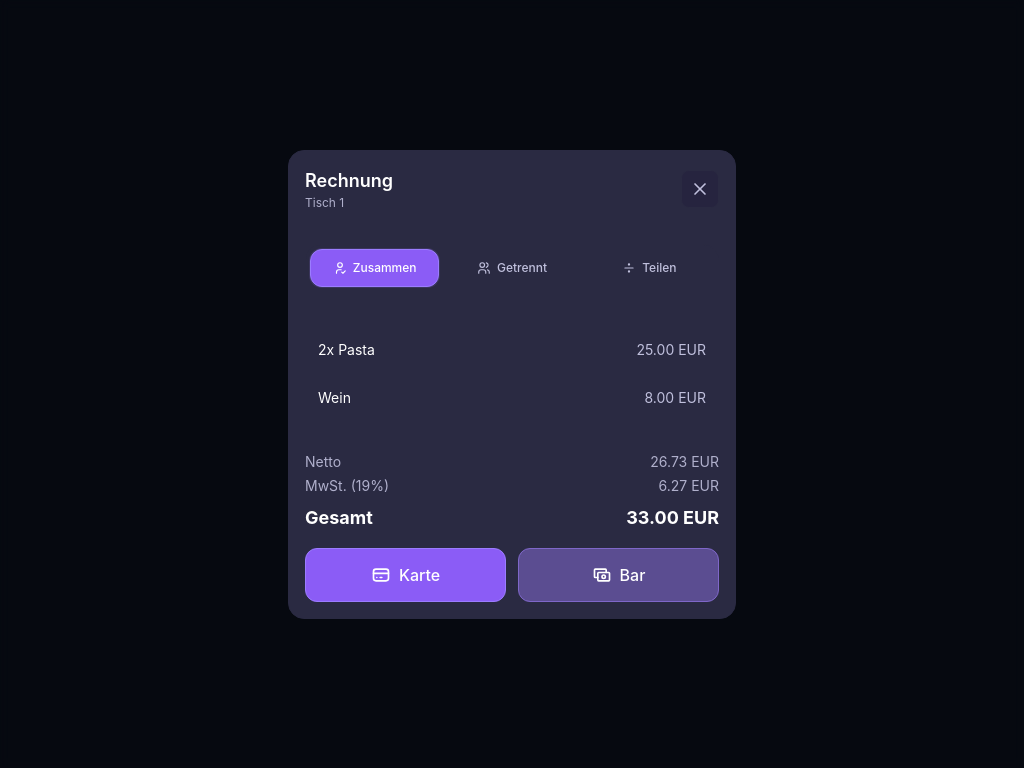
Test case: Scenario 1 — Combined Billing (full order → card payment → close) › after confirming payment CLOSE_TABLE fires: table becomes free, closedTables updated
Later steps or results of the test are not shown.
Expected: the text "33.00 EUR" is shown, [626, 504, 719, 532]
Click the button "Karte".
click(406, 574)  # box [305, 548, 506, 602]
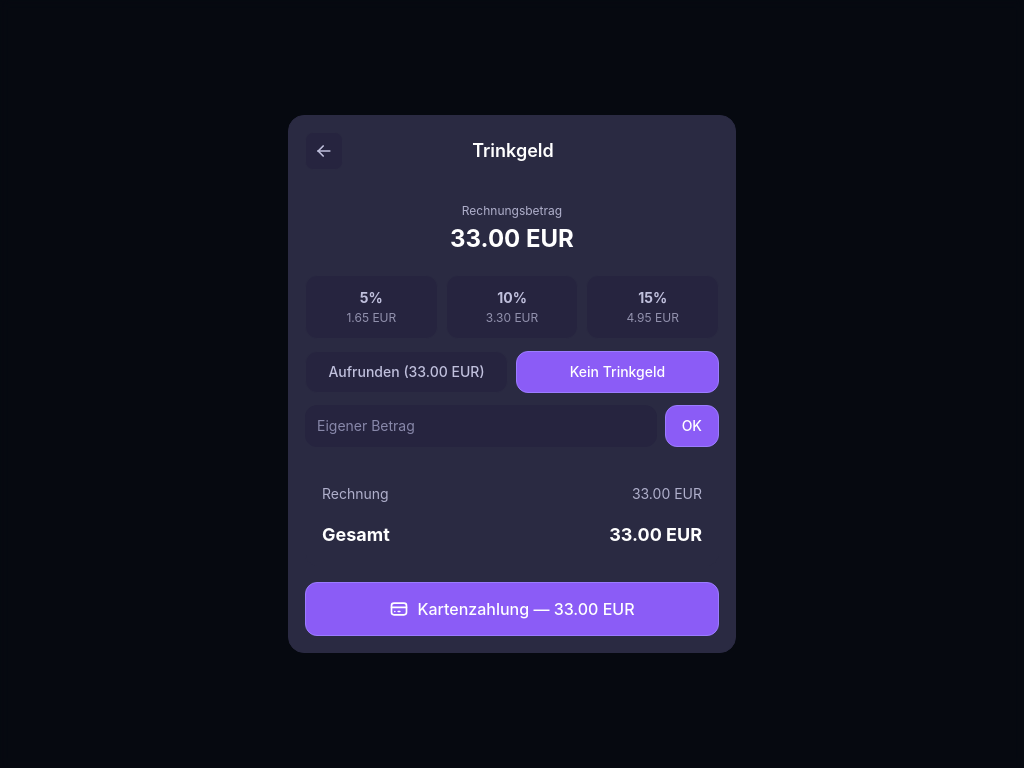
Expected: the heading "Trinkgeld" is shown, [472, 137, 554, 165]
Click the button "Kartenzahlung — 33.00 EUR".
click(512, 609)  # box [305, 582, 719, 636]
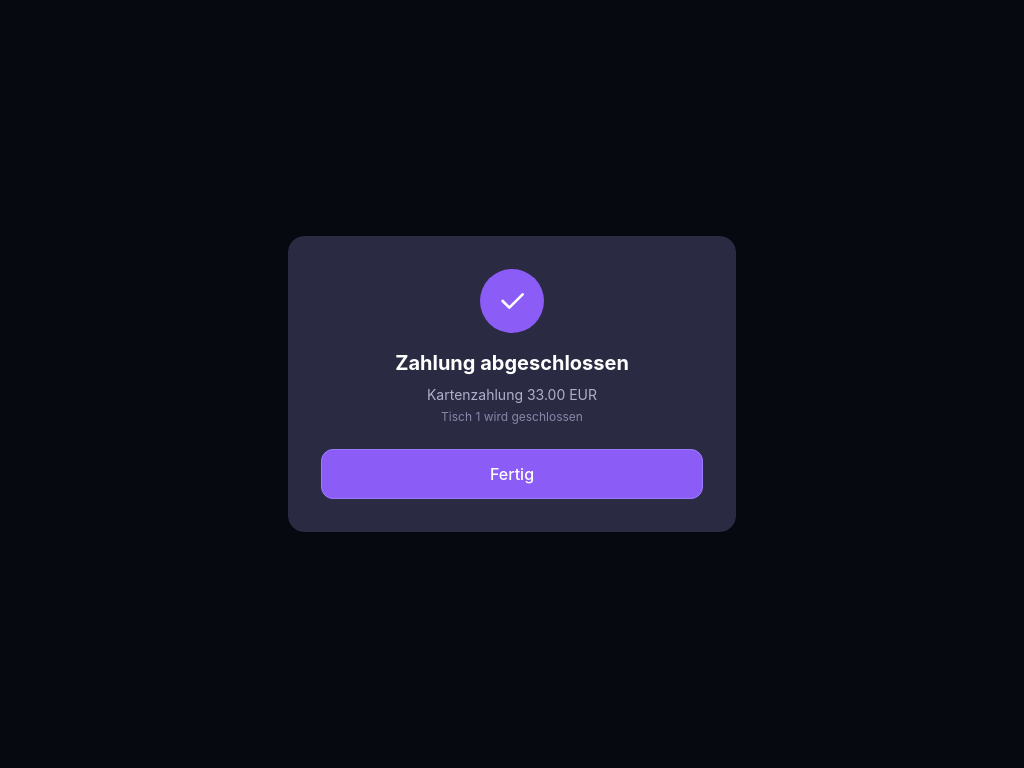
Expected: the heading "Zahlung abgeschlossen" is shown, [395, 351, 629, 375]
